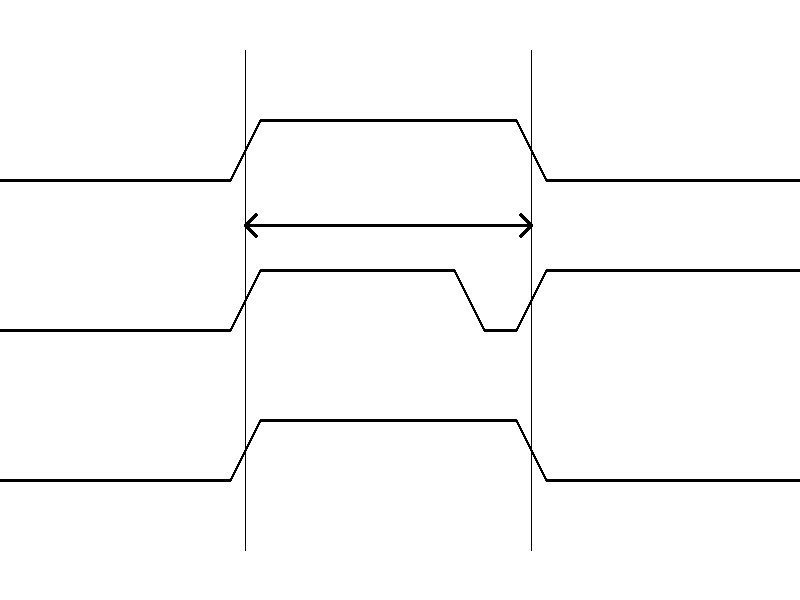double_arrow: (245, 210, 531, 240)
